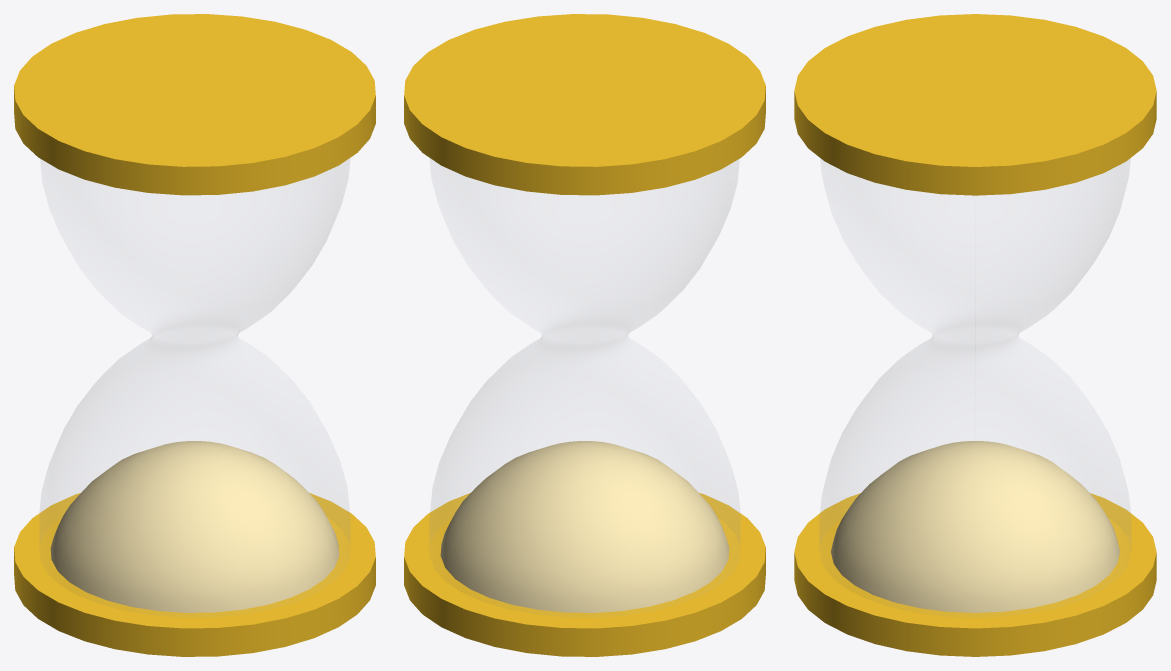
The model's file is hourglass_done.fbx.
3 views of the same model, side by side, from view 1: azimuth 30°, elevation 25°; view 2: azimuth 150°, elevation 25°; view 3: azimuth 270°, elevation 25° (orthographic).
Parts seen in each view (by area): view 1: Cylinder.460; view 2: Cylinder.460; view 3: Cylinder.460.
Boxes of the visible parts, x1,y1,x2,y2 form: Cylinder.460: (14, 14, 375, 656); Cylinder.460: (404, 14, 765, 656); Cylinder.460: (794, 14, 1156, 656).
Bounding box in the file's own units: 139 × 209 × 139.
Materials: 2 (1 with a texture image).
